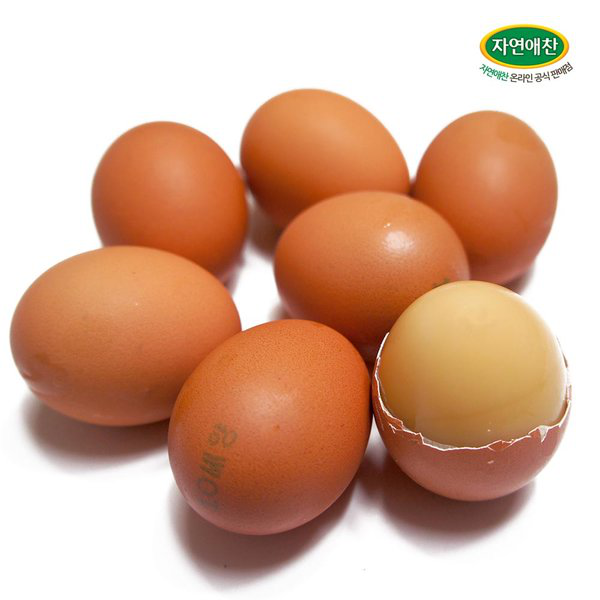egg: (7, 84, 578, 537)
